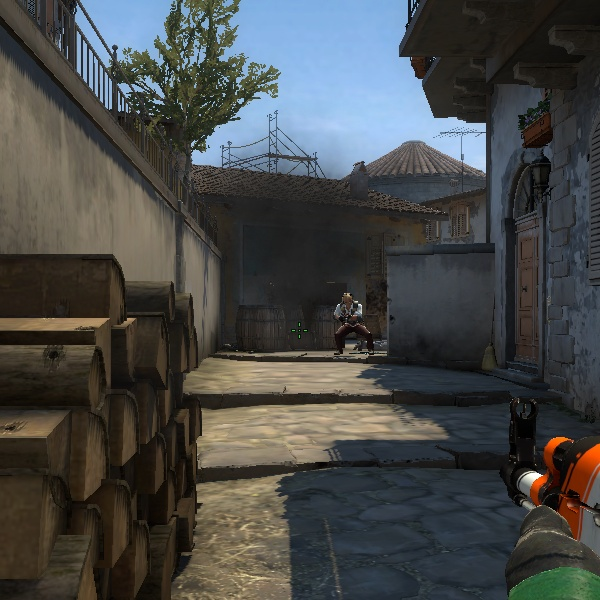t_body: (327, 289, 371, 353)
